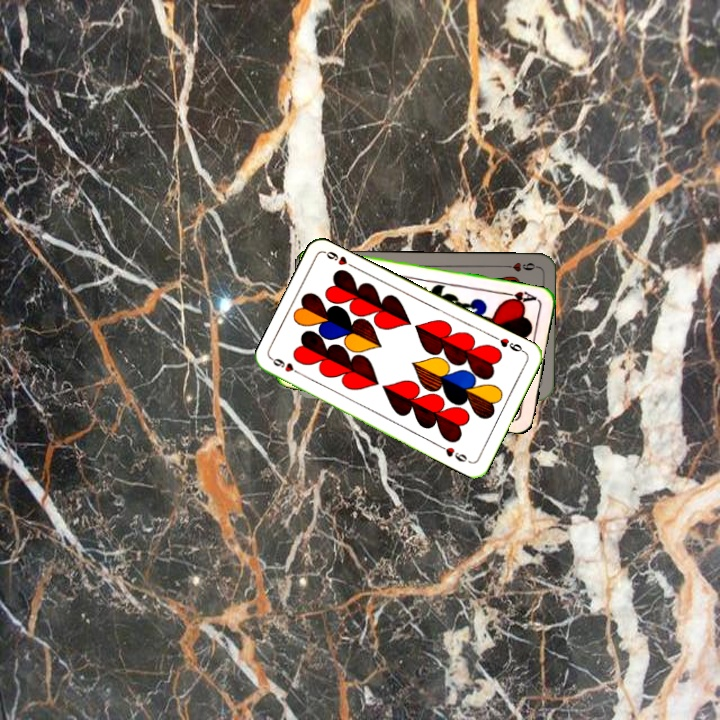H9: (268, 354, 306, 379), (490, 332, 528, 356), (499, 258, 539, 274)
HA: (499, 287, 540, 307)
